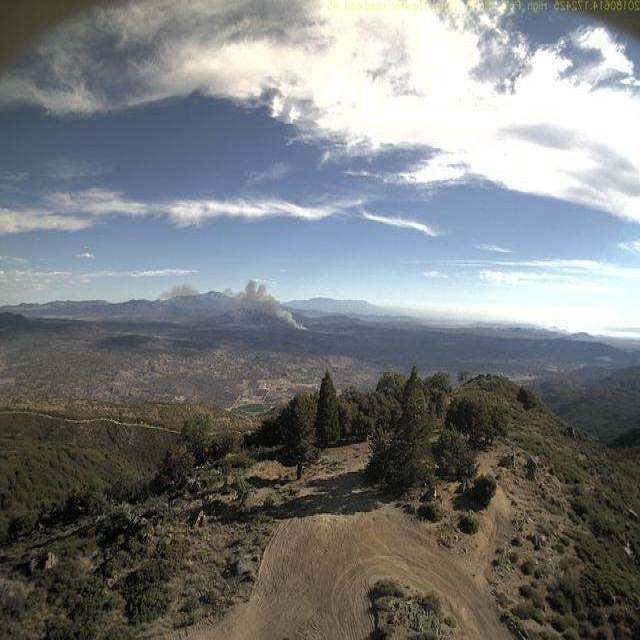Smoke: (158, 274, 313, 334)
